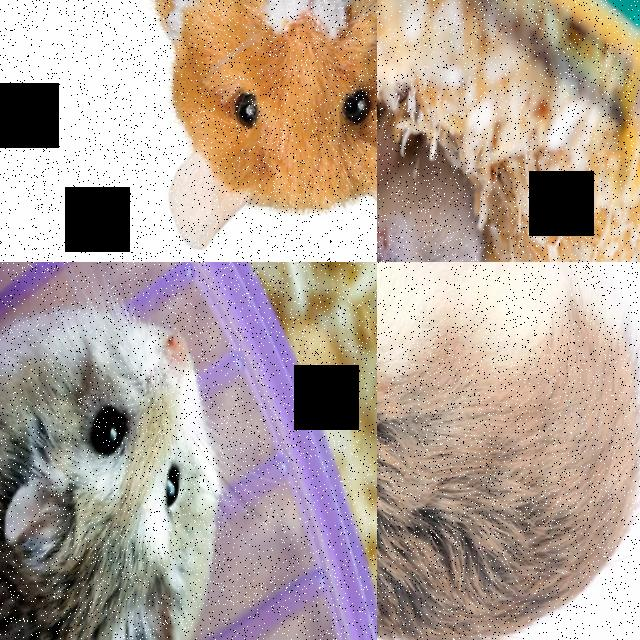hamster: (377, 262, 640, 640), (0, 297, 226, 640), (128, 0, 377, 257), (377, 141, 505, 262)
